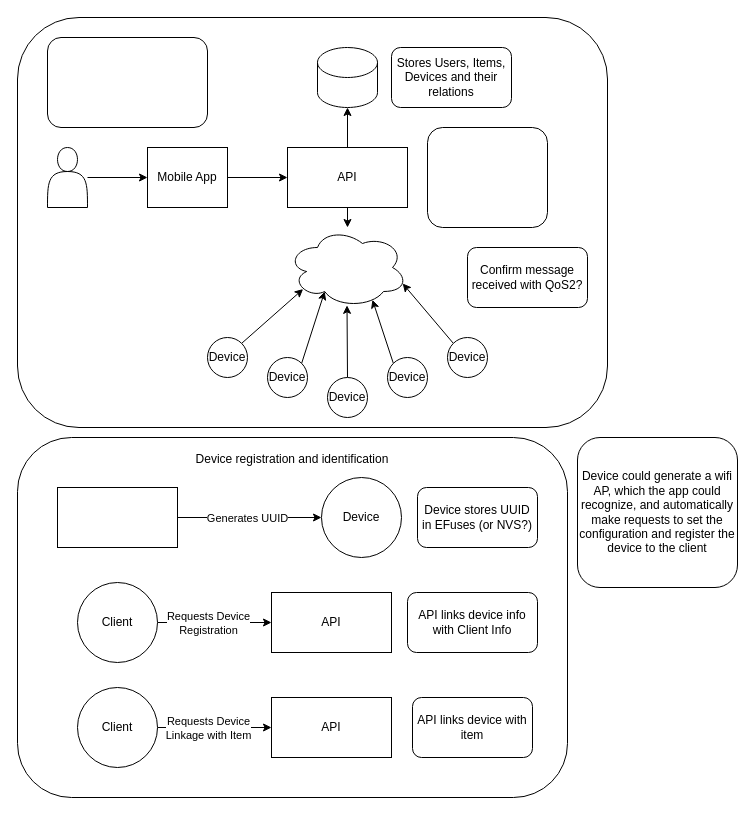
Some shapes in this 755 by 815 pixel diagram are drawn without their labels. Here are the shapes that lost their labels. From the top down, the centre of each, then its label:
At pixel 127 82: "User searches for item in app, and requires item location".
At pixel 347 77: "DB".
At pixel 67 177: "User".
At pixel 487 177: "Manages connections, resources, authentication and authorization".
At pixel 347 267: "Message Broker".
At pixel 117 517: "Programming system".
